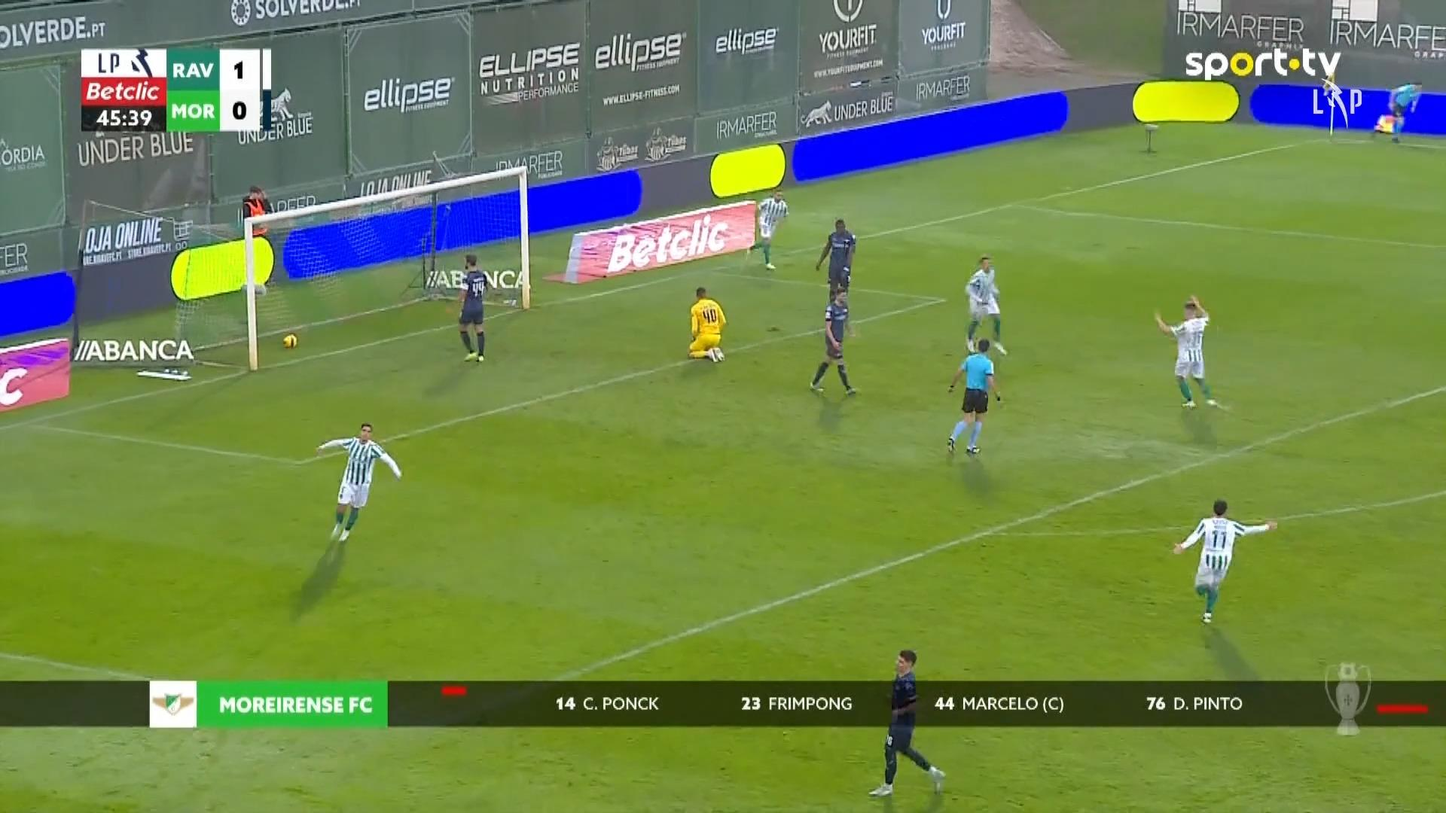ball: (282, 334, 296, 349), (254, 284, 266, 296)
goalkeeper: (687, 286, 726, 363)
player: (1172, 498, 1277, 625), (868, 649, 946, 797), (314, 421, 402, 543), (1154, 294, 1220, 410), (808, 286, 858, 396), (964, 254, 1008, 355), (455, 253, 491, 362), (814, 218, 856, 306), (745, 188, 788, 270)
referee: (945, 337, 1001, 455), (1371, 80, 1423, 143)
